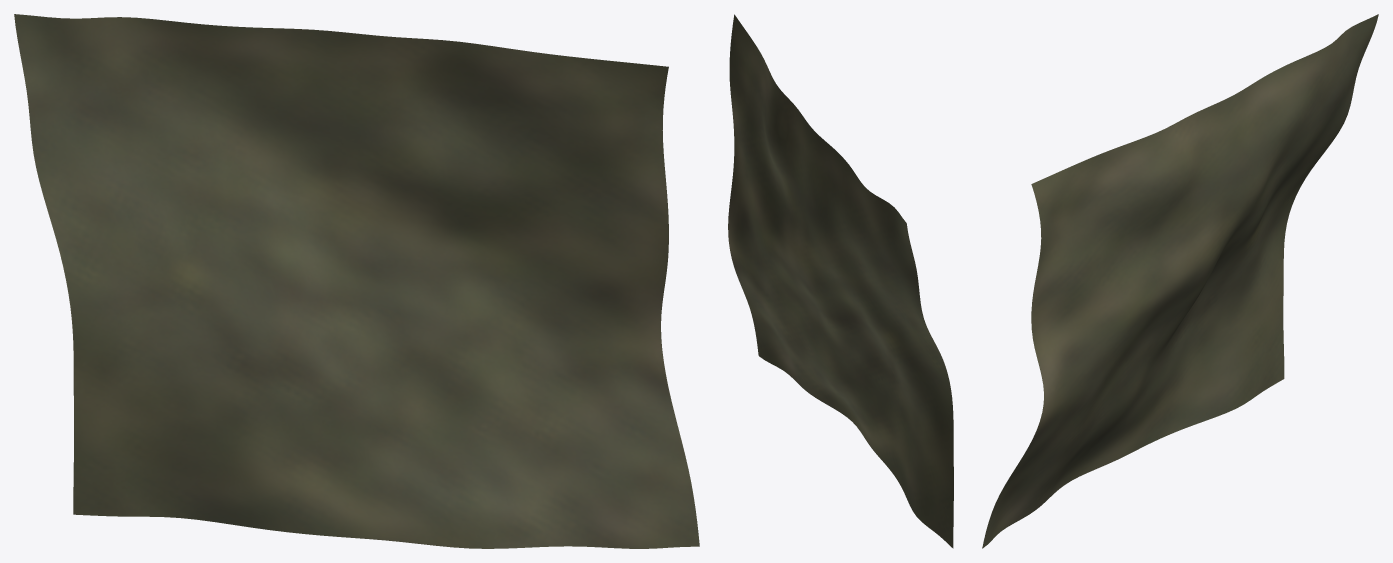
File: ground_mid_06_02.obj
3 views of the same model, side by side, from view 1: azimuth 30°, elevation 25°; view 2: azimuth 150°, elevation 25°; view 3: azimuth 270°, elevation 25° (orthographic). The views are drawn at different scales.
Visible parts, largest first — view 1: ground_mid_06_02; view 2: ground_mid_06_02; view 3: ground_mid_06_02.
Boxes of the visible parts, left/top/right/bottom form: ground_mid_06_02: left=14, top=14, right=699, bottom=548; ground_mid_06_02: left=728, top=14, right=953, bottom=548; ground_mid_06_02: left=982, top=14, right=1378, bottom=548.
Bounding box in the file's own units: 200 × 200 × 197.
1 material, 1 textured.
